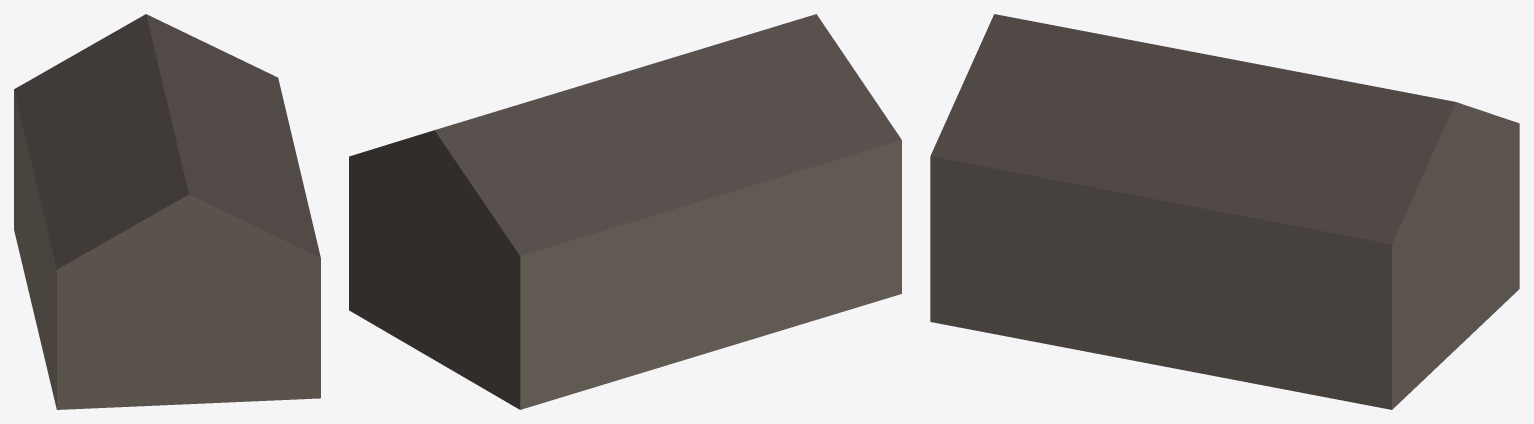
3 views of the same model, side by side, from view 1: azimuth 30°, elevation 25°; view 2: azimuth 150°, elevation 25°; view 3: azimuth 270°, elevation 25° (orthographic). The views are drawn at different scales.
Visible parts, largest first — view 1: HP-w859082559; view 2: HP-w859082559; view 3: HP-w859082559.
Part boxes in pixels (box(x1,y1,x2,y2)): HP-w859082559: box(14, 14, 320, 409); HP-w859082559: box(349, 14, 901, 409); HP-w859082559: box(930, 14, 1519, 409).
Size of the model in its own units: 16.24 by 8.97 by 19.36.
